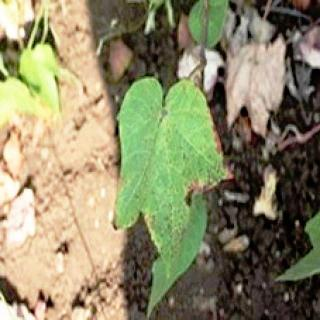leaf spot: (111, 80, 225, 267)
